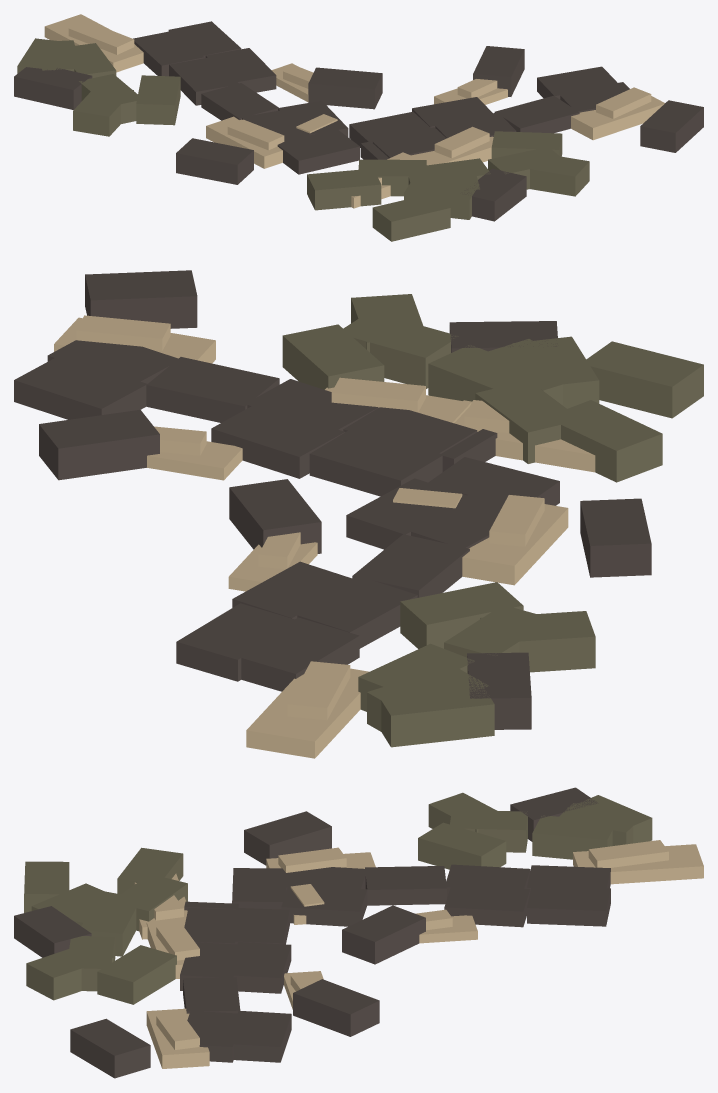
Rendered from SM_SacosEsquina_v0_Recto_e3_Brecha_LOD0.fbx.
3 views of the same model, one above another, from view 1: azimuth 30°, elevation 25°; view 2: azimuth 150°, elevation 25°; view 3: azimuth 270°, elevation 25° (orthographic). The views are drawn at different scales.
Visible parts, largest first — view 1: SM_sacos_piezas_v3_LOD0; view 2: SM_sacos_piezas_v3_LOD0; view 3: SM_sacos_piezas_v3_LOD0.
Part boxes in pixels (x1,y1,x2,y2): SM_sacos_piezas_v3_LOD0: (14,14,703,241); SM_sacos_piezas_v3_LOD0: (14,270,703,758); SM_sacos_piezas_v3_LOD0: (14,787,703,1078).
Size of the model in its own units: 6.62 by 0.26 by 7.2.
